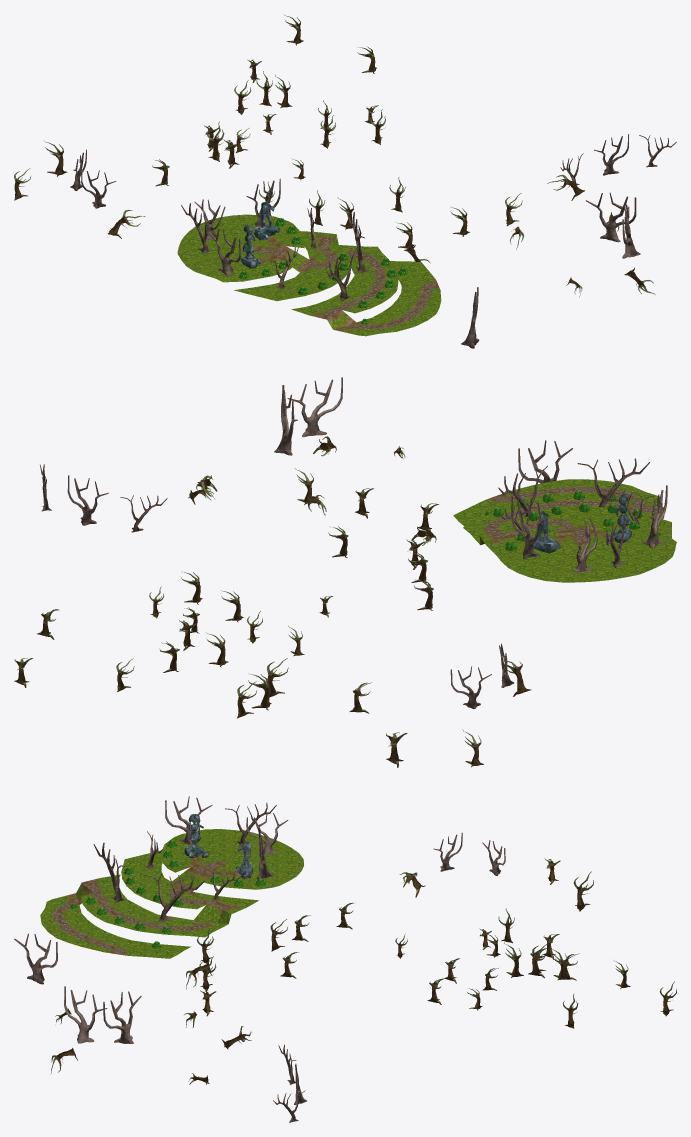
Rendered from New_Graveyard.FBX.
3 renders of one model, top to bottom at view 1: azimuth 30°, elevation 25°; view 2: azimuth 150°, elevation 25°; view 3: azimuth 270°, elevation 25°, orthographic. The views are drawn at different scales.
Visible parts, largest first — view 1: 0_Floor_1, E01_Tree_no_leafs, E01_BigJacarandaTree, E01_ThinJacarandaTree, E01_BushHero, E01_StatueBardo; view 2: 0_Floor_1, E01_Tree_no_leafs, E01_BigJacarandaTree, E01_ThinJacarandaTree, E01_BushHero, E01_StatueHechicera; view 3: 0_Floor_1, E01_Tree_no_leafs, E01_BigJacarandaTree, E01_ThinJacarandaTree, E01_BushHero, E01_StatueHechicera.
Part boxes in pixels (x1,y1,x2,y2): 0_Floor_1: (177, 214, 441, 336); E01_Tree_no_leafs: (14, 15, 655, 297); E01_BigJacarandaTree: (70, 134, 640, 348); E01_ThinJacarandaTree: (181, 135, 676, 301); E01_BushHero: (239, 218, 407, 324); E01_StatueBardo: (254, 202, 279, 240); 0_Floor_1: (453, 479, 676, 582); E01_Tree_no_leafs: (14, 436, 531, 767); E01_BigJacarandaTree: (67, 377, 667, 708); E01_ThinJacarandaTree: (40, 458, 653, 568); E01_BushHero: (485, 490, 660, 550); E01_StatueHechicera: (605, 493, 631, 542); 0_Floor_1: (40, 829, 303, 958); E01_Tree_no_leafs: (50, 858, 676, 1084); E01_BigJacarandaTree: (14, 796, 505, 1104); E01_ThinJacarandaTree: (93, 803, 305, 1122); E01_BushHero: (70, 840, 265, 948); E01_StatueHechicera: (184, 814, 208, 858).
Bounding box in the file's own units: 8819 × 1731 × 9704.
